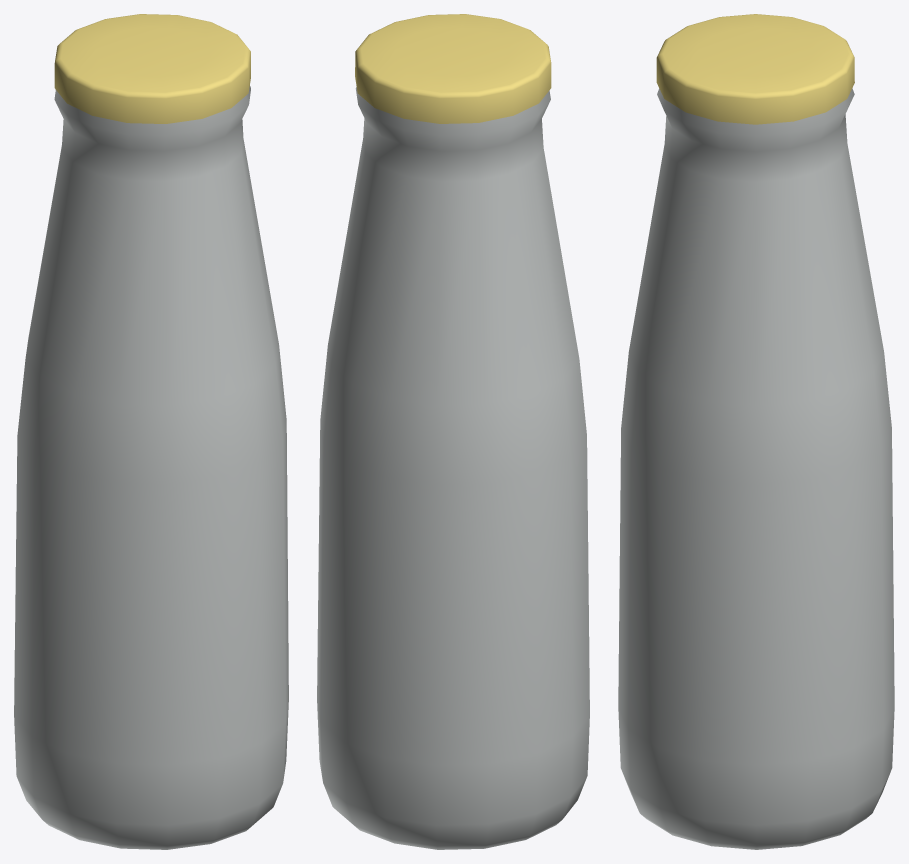
The model's file is bottle_milk_lod2.glb.
The picture shows the model from 3 angles, left to right: view 1: azimuth 30°, elevation 25°; view 2: azimuth 150°, elevation 25°; view 3: azimuth 270°, elevation 25°; orthographic projection.
Visible parts, largest first — view 1: Glass, Cap; view 2: Glass, Cap; view 3: Glass, Cap.
Boxes of the visible parts, left/top/right/bottom form: Glass: left=14, top=86, right=288, bottom=849; Cap: left=54, top=14, right=250, bottom=123; Glass: left=317, top=87, right=589, bottom=849; Cap: left=355, top=14, right=551, bottom=123; Glass: left=618, top=88, right=894, bottom=849; Cap: left=656, top=14, right=854, bottom=124.
Bounding box in the file's own units: 0.0744 × 0.2238 × 0.0745.
